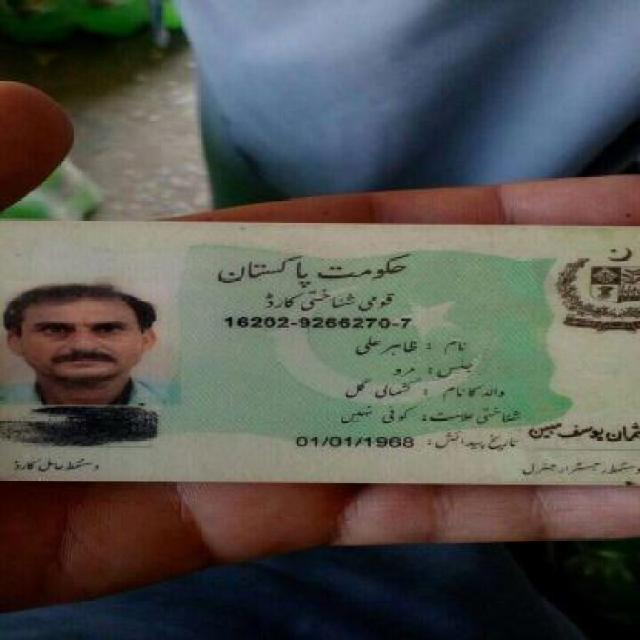Front: (6, 209, 640, 502)
